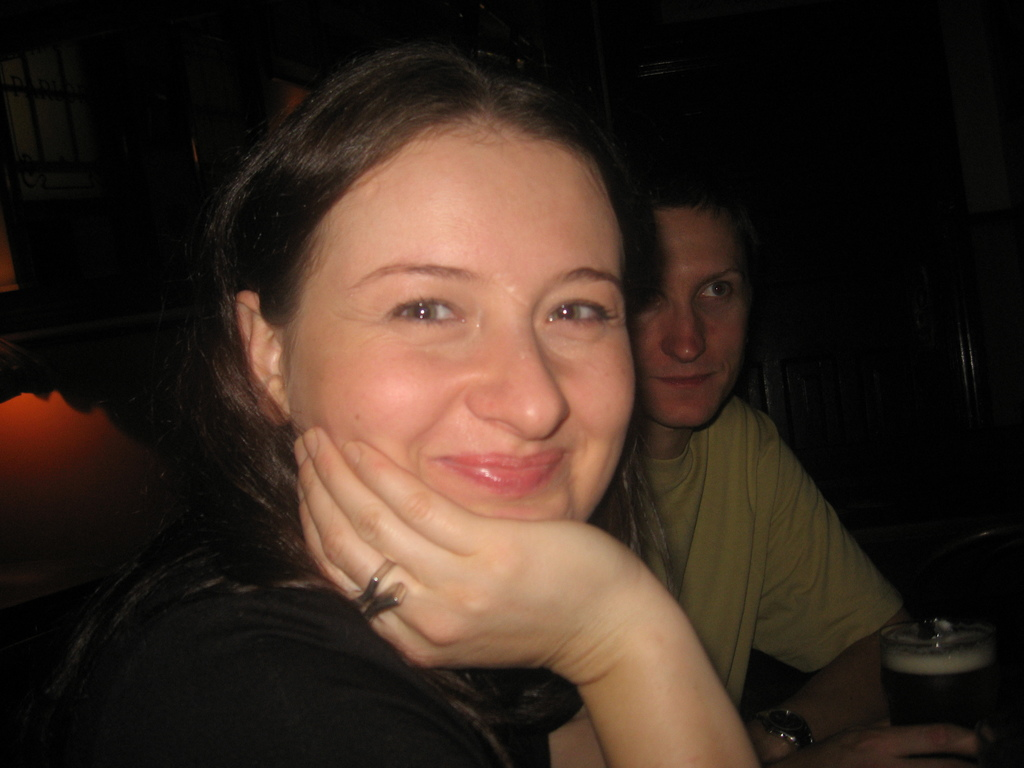Human_hand: (296, 482, 758, 735), (782, 725, 983, 767), (750, 730, 790, 767)
